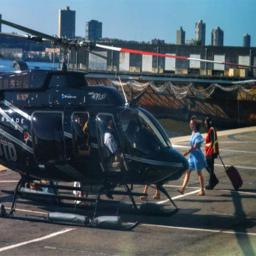helicopter: (3, 27, 192, 237)
